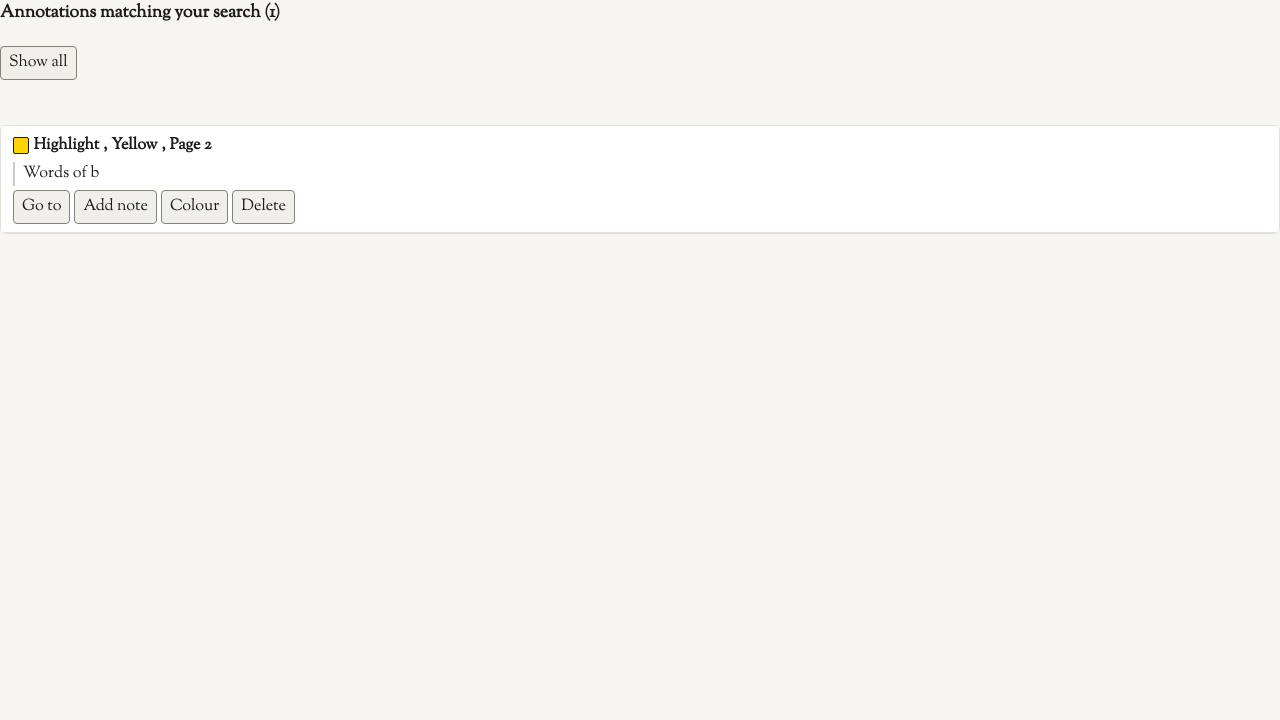
AnnotationList filtered by a search (Task R12) › when the last match is deleted, says so and keeps Show all
Click the button "Delete" at x=264, y=206, box x1=232 y1=190 x2=295 y2=224
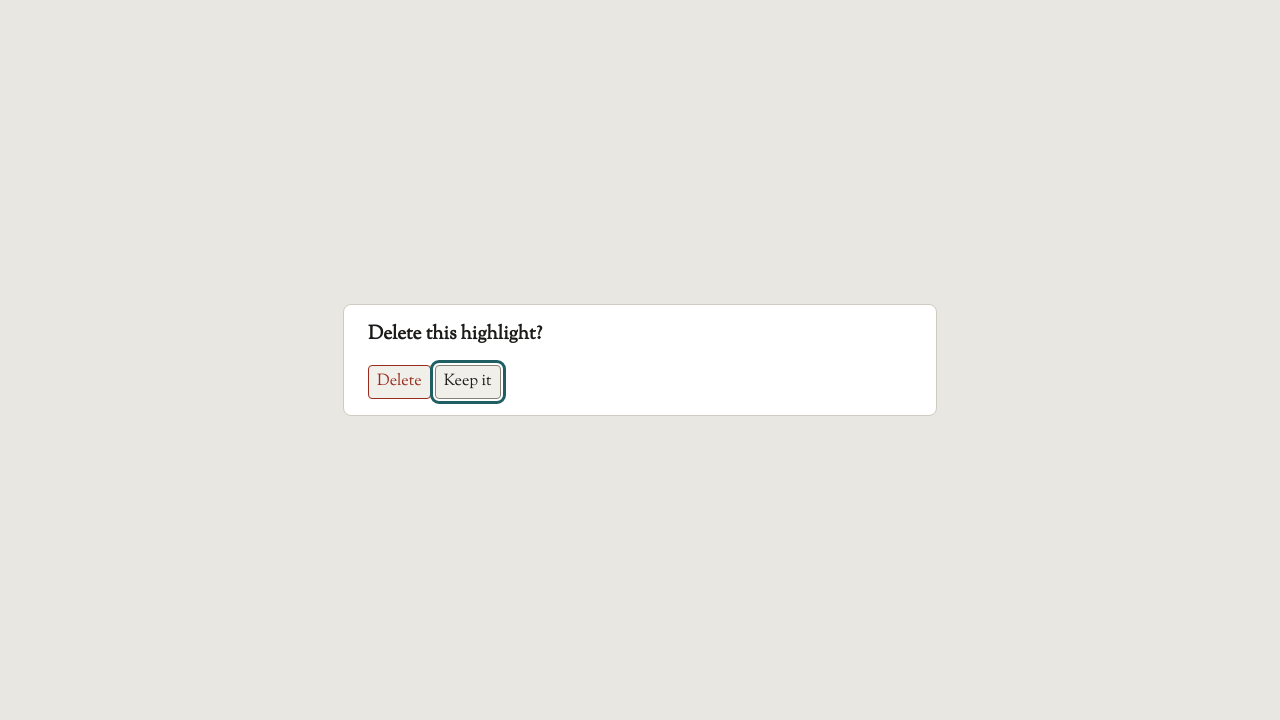
Click the button "Delete" at x=399, y=382, box x1=368 y1=365 x2=431 y2=399
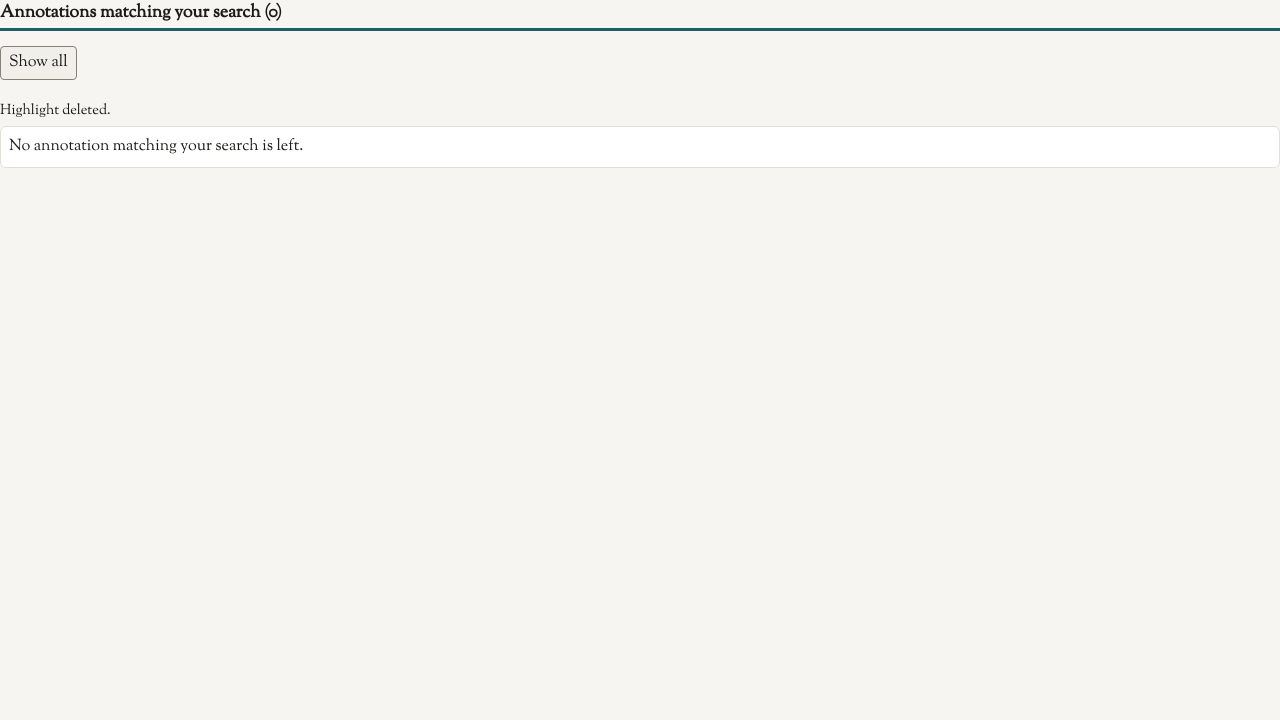
Expected: the button "Show all" is shown, x1=0 y1=46 x2=77 y2=80
Expected: the text "No annotation matching your search is left." is shown, x1=9 y1=135 x2=303 y2=158
